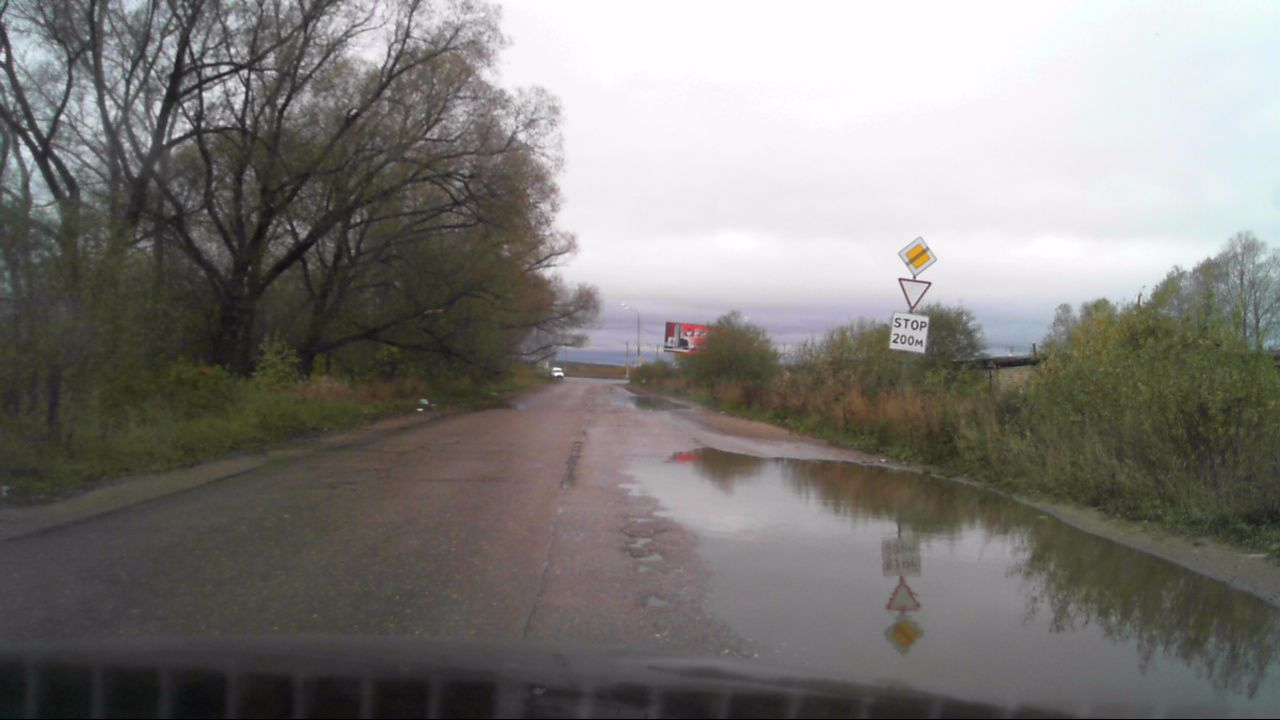main road: (897, 235, 937, 276)
